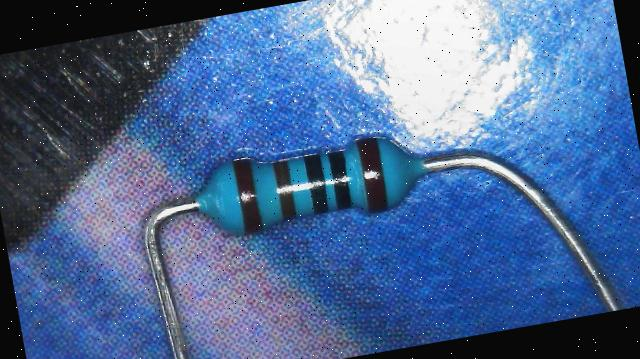black: (304, 152, 330, 213), (328, 149, 353, 208)
brown: (356, 135, 389, 211), (232, 156, 264, 232), (273, 158, 298, 219)
resistor: (189, 102, 445, 249)
